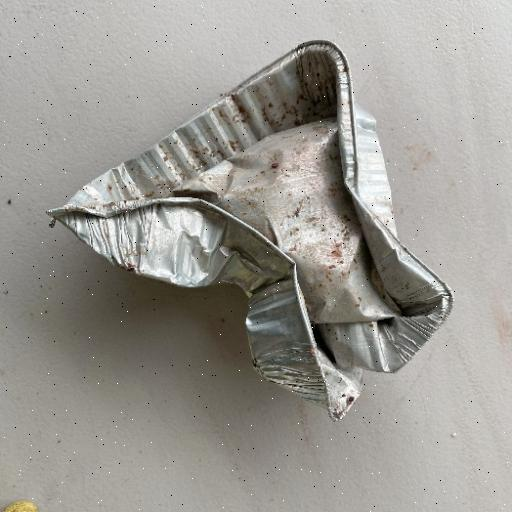Metal: (45, 38, 455, 422)
